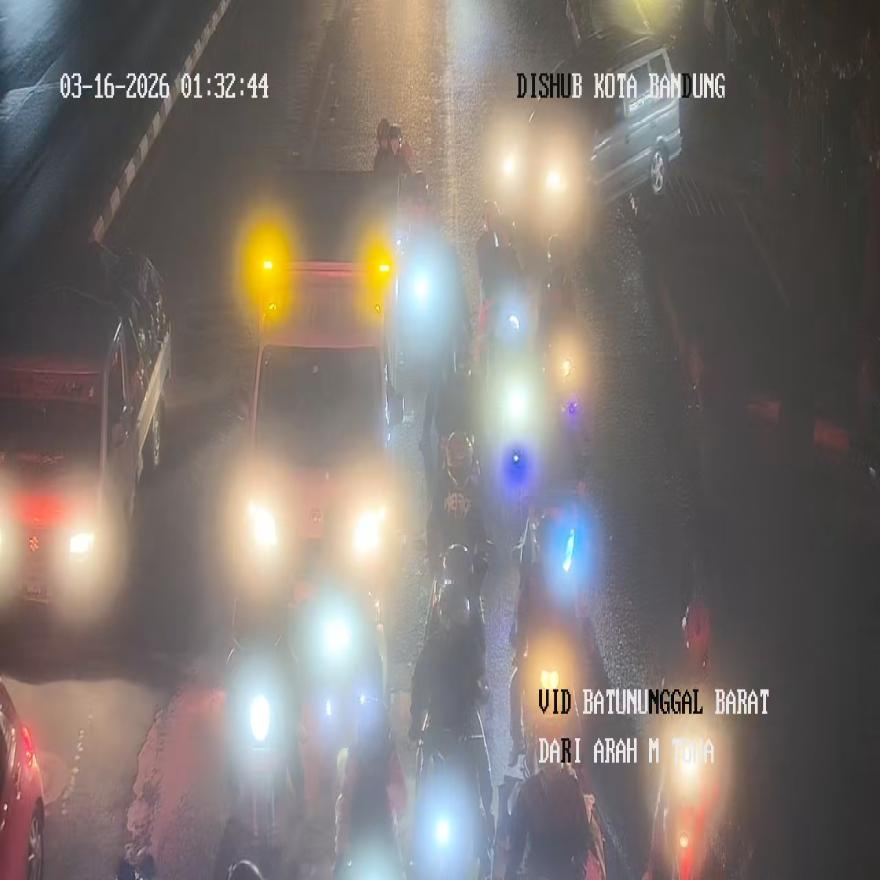Motor: (0, 244, 172, 611), (490, 24, 683, 242), (0, 676, 45, 879)
Truk: (409, 544, 493, 879), (643, 599, 720, 879), (227, 590, 298, 846), (494, 726, 610, 879), (511, 515, 575, 757), (315, 570, 386, 755), (513, 456, 595, 606), (484, 363, 547, 524), (422, 230, 470, 441), (537, 236, 588, 420), (476, 204, 528, 374), (426, 431, 487, 574), (399, 222, 445, 347), (374, 119, 428, 219), (7, 788, 8, 788)
